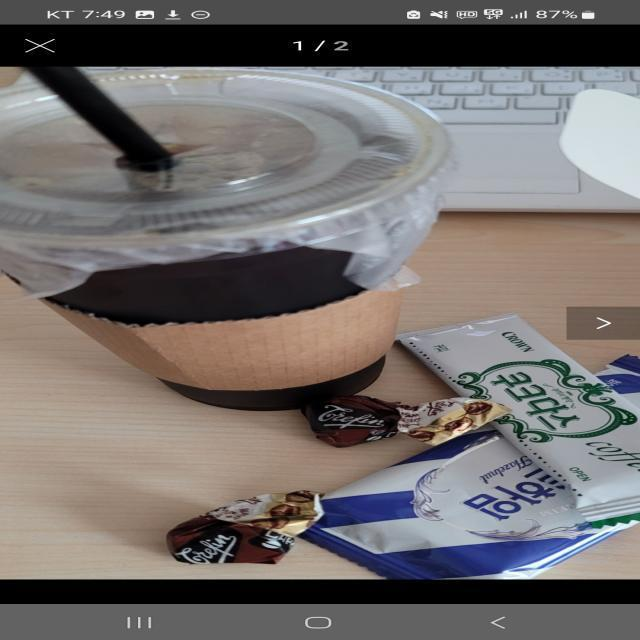cup: (0, 75, 504, 407)
